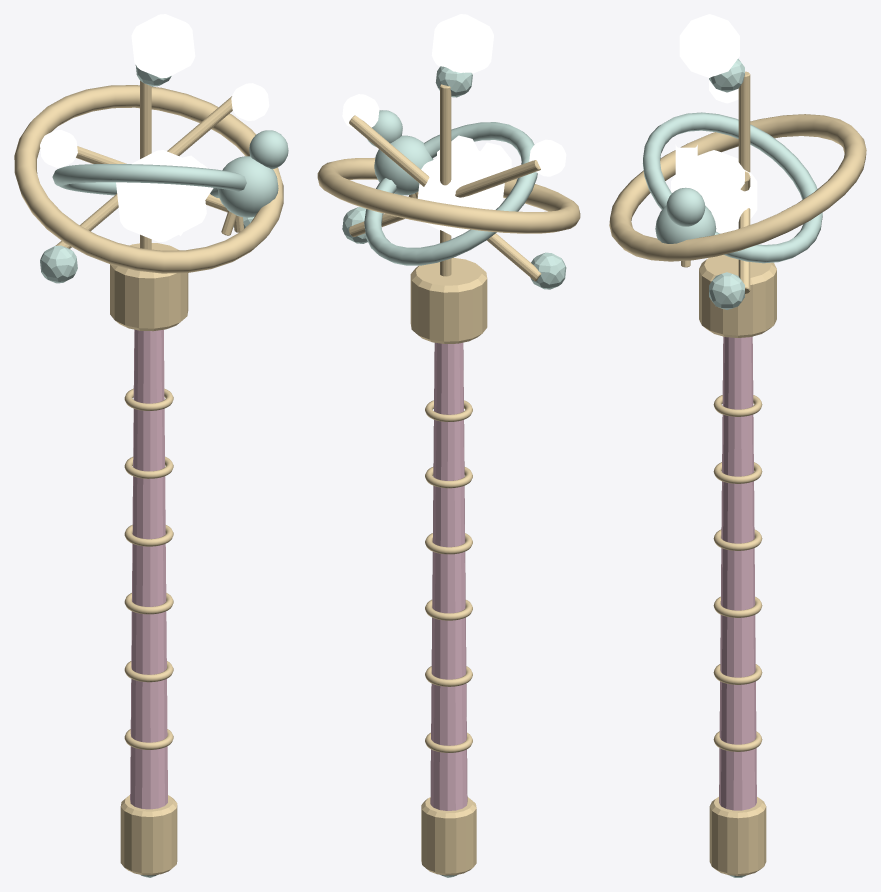
File: mage-staff-07-candy-carousel.glb
The picture shows the model from 3 angles, left to right: view 1: azimuth 30°, elevation 25°; view 2: azimuth 150°, elevation 25°; view 3: azimuth 270°, elevation 25°; orthographic projection. The views are drawn at different scales.
Visible parts, largest first — view 1: mage-staff-07-candy-carousel_WoodenShaft, mage-staff-07-candy-carousel_CarouselOuterRing, mage-staff-07-candy-carousel_CrownCollar, mage-staff-07-candy-carousel_CarouselCandyRing, mage-staff-07-candy-carousel_LowerFerrule, mage-staff-07-candy-carousel_CrownStar, mage-staff-07-candy-carousel_CarouselStar, mage-staff-07-candy-carousel_CarouselHorseBody, mage-staff-07-candy-carousel_CarouselCandyOrb, mage-staff-07-candy-carousel_CarouselHorseHead, mage-staff-07-candy-carousel_CarouselCharm_5, mage-staff-07-candy-carousel_CarouselCharm_6 (+4 smaller); view 2: mage-staff-07-candy-carousel_WoodenShaft, mage-staff-07-candy-carousel_CarouselOuterRing, mage-staff-07-candy-carousel_CrownCollar, mage-staff-07-candy-carousel_CarouselCandyRing, mage-staff-07-candy-carousel_LowerFerrule, mage-staff-07-candy-carousel_CrownStar, mage-staff-07-candy-carousel_CarouselStar, mage-staff-07-candy-carousel_CarouselHorseBody, mage-staff-07-candy-carousel_CarouselSpoke_2, mage-staff-07-candy-carousel_CarouselSpoke_1, mage-staff-07-candy-carousel_CarouselCandyOrb, mage-staff-07-candy-carousel_CarouselSpoke_6 (+7 smaller); view 3: mage-staff-07-candy-carousel_WoodenShaft, mage-staff-07-candy-carousel_CarouselOuterRing, mage-staff-07-candy-carousel_CarouselCandyRing, mage-staff-07-candy-carousel_CrownCollar, mage-staff-07-candy-carousel_LowerFerrule, mage-staff-07-candy-carousel_CarouselStar, mage-staff-07-candy-carousel_CrownStar, mage-staff-07-candy-carousel_CarouselHorseBody, mage-staff-07-candy-carousel_CarouselHorseHead, mage-staff-07-candy-carousel_CarouselSpoke_1, mage-staff-07-candy-carousel_CarouselCharm_2, mage-staff-07-candy-carousel_CarouselCharm_3 (+4 smaller).
Boxes of the visible parts, x1,y1,x2,y2 form: mage-staff-07-candy-carousel_WoodenShaft: (130,329,167,809); mage-staff-07-candy-carousel_CarouselOuterRing: (14,85,283,273); mage-staff-07-candy-carousel_CrownCollar: (110,243,188,331); mage-staff-07-candy-carousel_CarouselCandyRing: (52,164,246,197); mage-staff-07-candy-carousel_LowerFerrule: (120,795,177,875); mage-staff-07-candy-carousel_CrownStar: (116,150,206,242); mage-staff-07-candy-carousel_CarouselStar: (131,14,195,78); mage-staff-07-candy-carousel_CarouselHorseBody: (217,156,278,217); mage-staff-07-candy-carousel_CarouselCandyOrb: (137,155,213,235); mage-staff-07-candy-carousel_CarouselHorseHead: (249,130,288,169); mage-staff-07-candy-carousel_CarouselCharm_5: (40,245,77,283); mage-staff-07-candy-carousel_CarouselCharm_6: (40,130,77,167); mage-staff-07-candy-carousel_WoodenShaft: (430,342,467,810); mage-staff-07-candy-carousel_CarouselOuterRing: (317,157,580,233); mage-staff-07-candy-carousel_CrownCollar: (410,257,487,343); mage-staff-07-candy-carousel_CarouselCandyRing: (364,122,537,265); mage-staff-07-candy-carousel_LowerFerrule: (421,797,476,875); mage-staff-07-candy-carousel_CrownStar: (417,150,504,237); mage-staff-07-candy-carousel_CarouselStar: (431,14,493,73); mage-staff-07-candy-carousel_CarouselHorseBody: (374,135,433,195); mage-staff-07-candy-carousel_CarouselSpoke_2: (349,115,429,186); mage-staff-07-candy-carousel_CarouselSpoke_1: (440,84,451,185); mage-staff-07-candy-carousel_CarouselCandyOrb: (437,135,511,172); mage-staff-07-candy-carousel_CarouselSpoke_6: (455,160,540,197); mage-staff-07-candy-carousel_WoodenShaft: (719,336,756,810); mage-staff-07-candy-carousel_CarouselOuterRing: (609,114,866,261); mage-staff-07-candy-carousel_CarouselCandyRing: (642,112,822,263); mage-staff-07-candy-carousel_CrownCollar: (699,255,776,337); mage-staff-07-candy-carousel_LowerFerrule: (709,797,766,875); mage-staff-07-candy-carousel_CarouselStar: (679,14,739,77); mage-staff-07-candy-carousel_CrownStar: (671,150,757,233); mage-staff-07-candy-carousel_CarouselHorseBody: (655,205,716,243); mage-staff-07-candy-carousel_CarouselHorseHead: (666,187,705,226); mage-staff-07-candy-carousel_CarouselSpoke_1: (738,71,750,172); mage-staff-07-candy-carousel_CarouselCharm_2: (709,158,744,195); mage-staff-07-candy-carousel_CarouselCharm_3: (709,272,744,309).
Size of the model in its own units: 0.622 by 2.18 by 0.5916.
